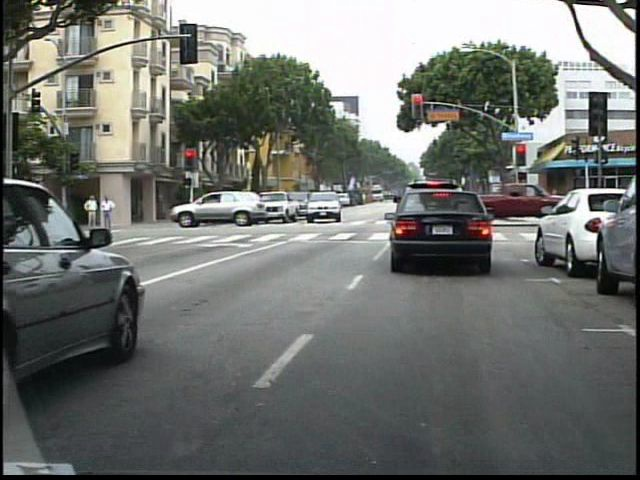person: (79, 190, 96, 233), (96, 192, 112, 232)
